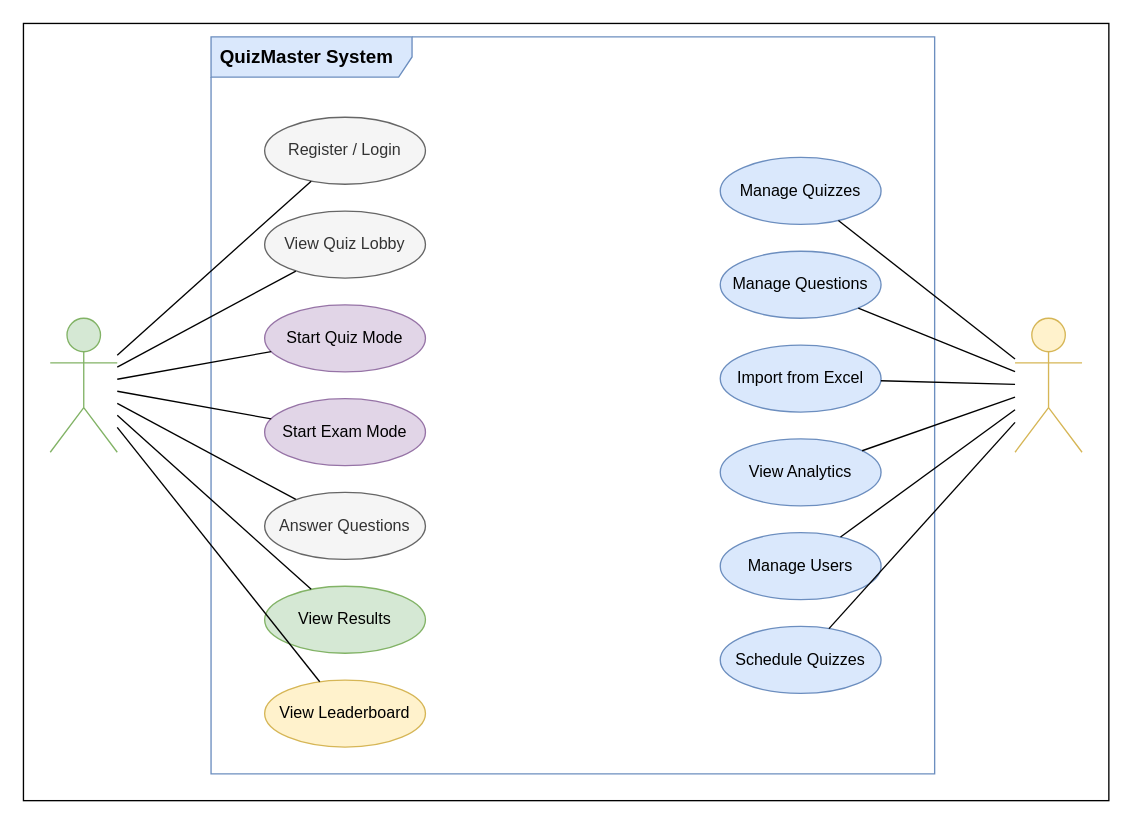
Image size: 1132x824. Some labels were removed from this diagram. The shapes that lost their labels are listed below. From the top down, each one's centre as x and y in pixels, then its label:
At [83,384]: "User".
At [1048,384]: "Admin".
